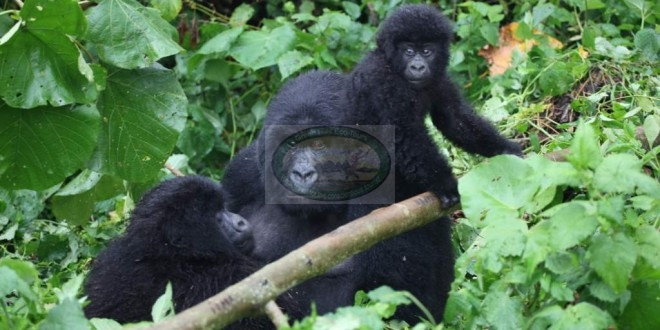Goriila: (79, 5, 531, 323)
